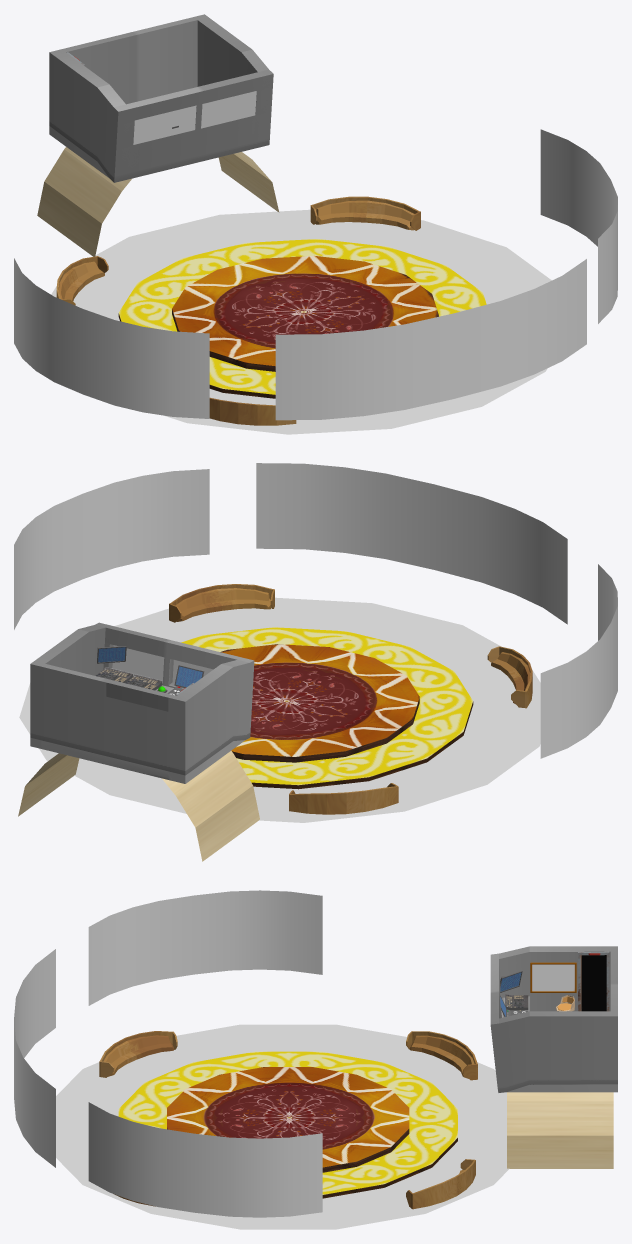
File: Randai_Scene_00.fbx
3 renders of one model, top to bottom at view 1: azimuth 30°, elevation 25°; view 2: azimuth 150°, elevation 25°; view 3: azimuth 270°, elevation 25°, orthographic. The views are drawn at different scales.
Visible parts, largest first — view 1: PlaneLED, ControlRoom, Ground, StageDancer, PlaneLED3, Stage1, PlaneLED2, BackRoom, MH_sofaIN_01.004, Glass; view 2: Ground, PlaneLED, ControlRoom, StageDancer, PlaneLED2, Stage1, BackRoom, PlaneLED3, MH_sofaIN_01.004, Glass; view 3: Ground, ControlRoom, PlaneLED2, PlaneLED3, StageDancer, Stage1, PlaneLED, MH_sofaIN_01.004, DoorExit, Board, BackRoom.
Part boxes in pixels (x1=…): PlaneLED: x1=275, y1=259, x2=586, y2=420; ControlRoom: x1=37, y1=14, x2=279, y2=256; Ground: x1=51, y1=209, x2=551, y2=434; StageDancer: x1=172, y1=255, x2=438, y2=371; PlaneLED3: x1=14, y1=258, x2=209, y2=418; Stage1: x1=118, y1=239, x2=486, y2=398; PlaneLED2: x1=540, y1=129, x2=617, y2=323; BackRoom: x1=62, y1=17, x2=197, y2=104; MH_sofaIN_01.004: x1=56, y1=196, x2=420, y2=425; Glass: x1=133, y1=91, x2=256, y2=144; Ground: x1=19, y1=597, x2=540, y2=822; PlaneLED: x1=256, y1=463, x2=567, y2=624; ControlRoom: x1=18, y1=622, x2=259, y2=861; StageDancer: x1=220, y1=644, x2=419, y2=762; PlaneLED2: x1=14, y1=469, x2=209, y2=629; Stage1: x1=181, y1=627, x2=473, y2=789; BackRoom: x1=41, y1=664, x2=176, y2=766; PlaneLED3: x1=540, y1=564, x2=617, y2=758; MH_sofaIN_01.004: x1=169, y1=584, x2=532, y2=814; Glass: x1=112, y1=645, x2=213, y2=682; Ground: x1=56, y1=1024, x2=509, y2=1229; ControlRoom: x1=490, y1=946, x2=617, y2=1168; PlaneLED2: x1=88, y1=1102, x2=322, y2=1217; PlaneLED3: x1=88, y1=890, x2=322, y2=1005; StageDancer: x1=167, y1=1067, x2=409, y2=1172; Stage1: x1=118, y1=1051, x2=457, y2=1198; PlaneLED: x1=14, y1=949, x2=55, y2=1167; MH_sofaIN_01.004: x1=99, y1=1031, x2=477, y2=1209; DoorExit: x1=578, y1=951, x2=609, y2=1011; Board: x1=530, y1=962, x2=576, y2=992; BackRoom: x1=610, y1=951, x2=617, y2=1011.
Bounding box in the file's own units: 3564 × 1013 × 3665.
